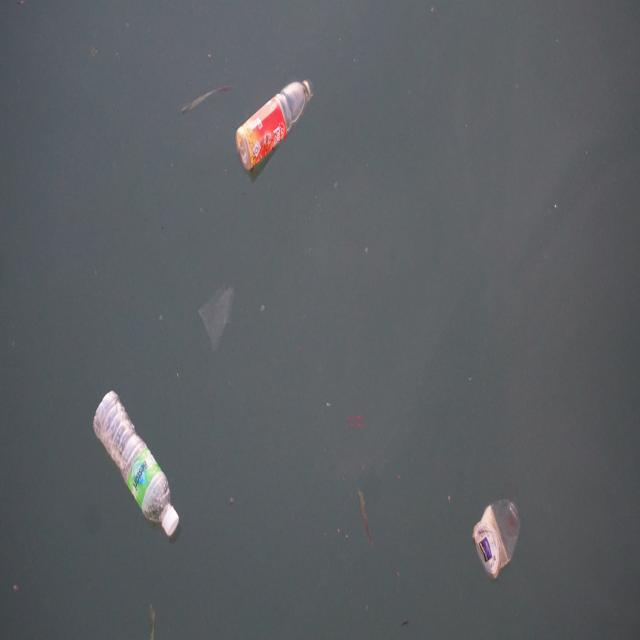Botol Plastik: (91, 386, 183, 545), (235, 74, 315, 179)
Bungkus Minuman: (469, 495, 523, 579)
